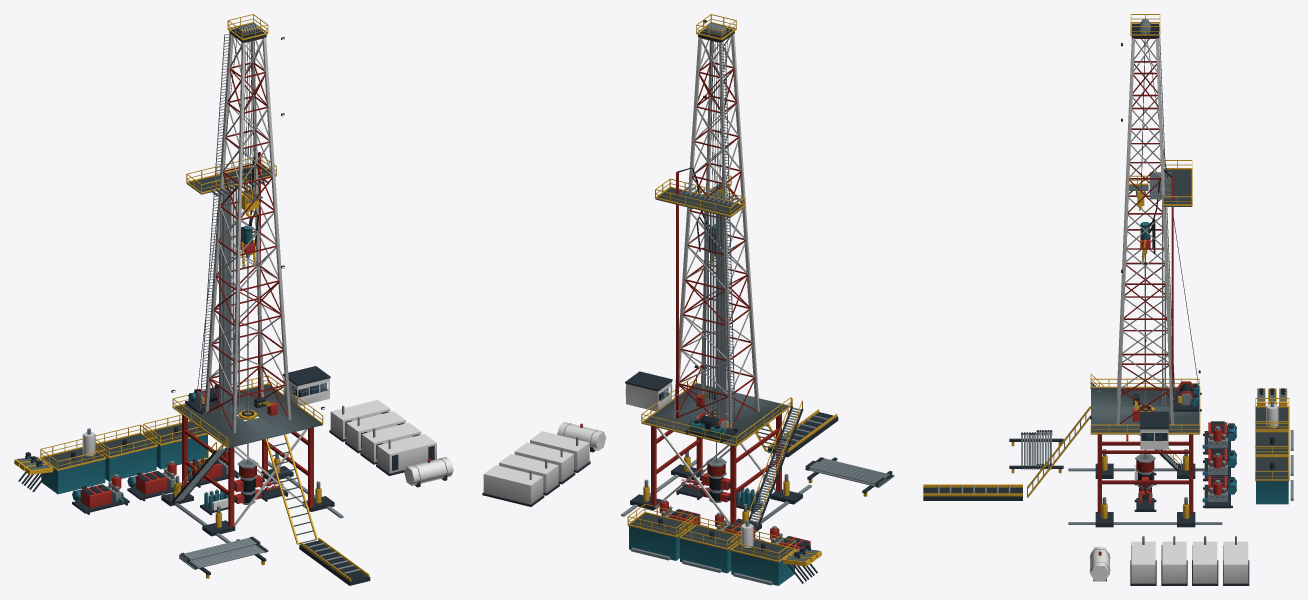
File: land_3000_triple_walking_lodL.glb
The picture shows the model from 3 angles, left to right: view 1: azimuth 30°, elevation 25°; view 2: azimuth 150°, elevation 25°; view 3: azimuth 270°, elevation 25°; orthographic projection.
Parts seen in each view (by area): view 1: derrick_surface_white, generators_surface_white, derrick_surface_red, drill_floor_surface_deck, mud_tanks_surface_blue, setback_pipe_surface_steel, substructure_surface_red, mud_tanks_surface_deck, mud_tanks_surface_yellow, ladder_surface_steel, pipe_rack_surface_steel, drill_line_surface_dark (+12 smaller); view 2: derrick_surface_white, generators_surface_white, setback_pipe_surface_steel, derrick_surface_red, mud_tanks_surface_blue, drill_floor_surface_deck, substructure_surface_red, mud_tanks_surface_deck, mud_tanks_surface_yellow, ladder_surface_steel, pipe_rack_surface_steel, handrails_surface_yellow (+15 smaller); view 3: derrick_surface_white, generators_surface_white, drill_floor_surface_deck, derrick_surface_red, mud_tanks_surface_deck, substructure_surface_red, mud_tanks_surface_yellow, catwalk_surface_dark, handrails_surface_yellow, pipe_rack_surface_steel, walking_system_surface_dark, racking_board_surface_deck (+10 smaller).
Boxes of the visible parts, x1,y1,x2,y2 form: derrick_surface_white: [204, 33, 291, 433]; generators_surface_white: [330, 400, 436, 473]; derrick_surface_red: [207, 36, 287, 429]; drill_floor_surface_deck: [174, 384, 322, 448]; mud_tanks_surface_blue: [41, 435, 207, 494]; setback_pipe_surface_steel: [219, 187, 239, 412]; substructure_surface_red: [182, 415, 313, 526]; mud_tanks_surface_deck: [42, 421, 208, 471]; mud_tanks_surface_yellow: [40, 414, 207, 470]; ladder_surface_steel: [199, 33, 229, 409]; pipe_rack_surface_steel: [179, 536, 268, 569]; drill_line_surface_dark: [197, 38, 255, 388]; derrick_surface_white: [673, 33, 759, 428]; generators_surface_white: [483, 431, 589, 504]; setback_pipe_surface_steel: [704, 211, 726, 420]; derrick_surface_red: [678, 37, 757, 428]; mud_tanks_surface_blue: [629, 526, 794, 585]; drill_floor_surface_deck: [642, 383, 788, 446]; substructure_surface_red: [651, 414, 781, 524]; mud_tanks_surface_deck: [628, 513, 793, 562]; mud_tanks_surface_yellow: [627, 504, 795, 562]; ladder_surface_steel: [720, 43, 735, 428]; pipe_rack_surface_steel: [805, 457, 894, 487]; handrails_surface_yellow: [641, 374, 791, 446]; derrick_surface_white: [1116, 38, 1173, 424]; generators_surface_white: [1131, 541, 1248, 583]; drill_floor_surface_deck: [1091, 388, 1199, 434]; derrick_surface_red: [1119, 38, 1170, 423]; mud_tanks_surface_deck: [1255, 407, 1288, 481]; substructure_surface_red: [1097, 434, 1193, 513]; mud_tanks_surface_yellow: [1255, 398, 1289, 480]; catwalk_surface_dark: [923, 487, 1022, 500]; handrails_surface_yellow: [1090, 378, 1200, 434]; pipe_rack_surface_steel: [1021, 431, 1051, 469]; walking_system_surface_dark: [1095, 463, 1195, 527]; racking_board_surface_deck: [1163, 169, 1192, 206].
Size of the model in its own units: 43.62 by 58.21 by 40.86.
